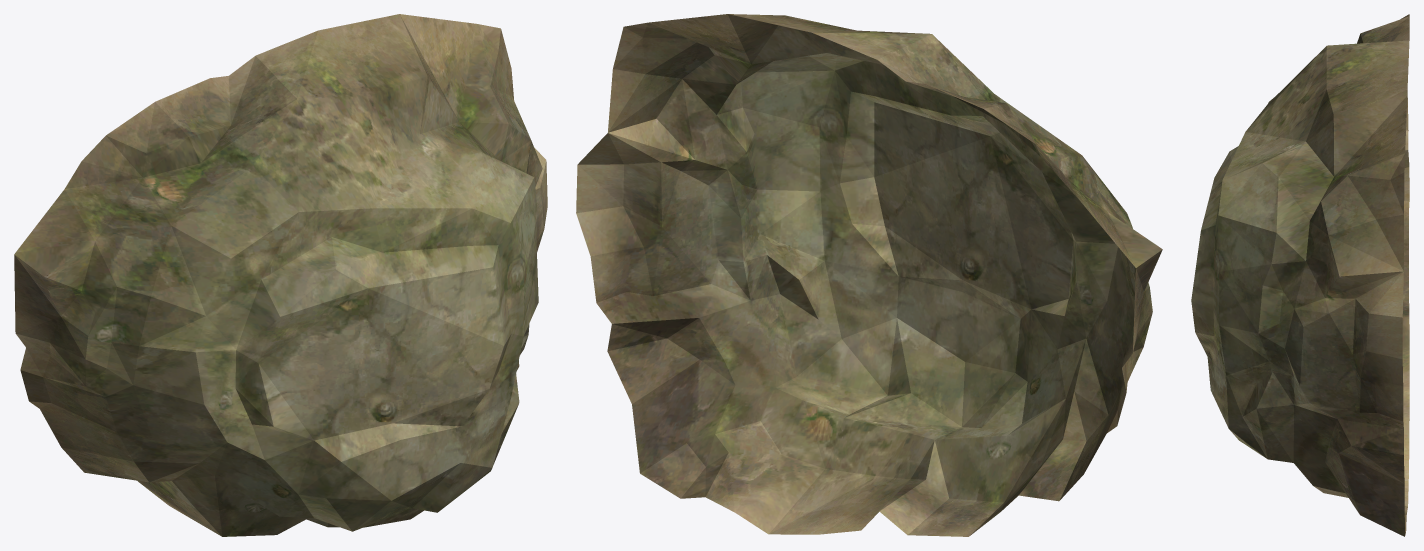
File: juqing_fuben_395_jiaoshi01.obj
3 views of the same model, side by side, from view 1: azimuth 30°, elevation 25°; view 2: azimuth 150°, elevation 25°; view 3: azimuth 270°, elevation 25° (orthographic). The views are drawn at different scales.
Parts seen in each view (by area): view 1: juqing_fuben_395_jiaoshi01; view 2: juqing_fuben_395_jiaoshi01; view 3: juqing_fuben_395_jiaoshi01.
Boxes of the visible parts, x1,y1,x2,y2 form: juqing_fuben_395_jiaoshi01: (14, 14, 547, 536); juqing_fuben_395_jiaoshi01: (576, 14, 1162, 536); juqing_fuben_395_jiaoshi01: (1191, 14, 1409, 536).
Bounding box in the file's own units: 1336 × 1164 × 535.
1 material, 1 textured.
